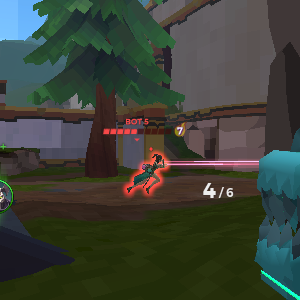model: (133, 151, 162, 195)
